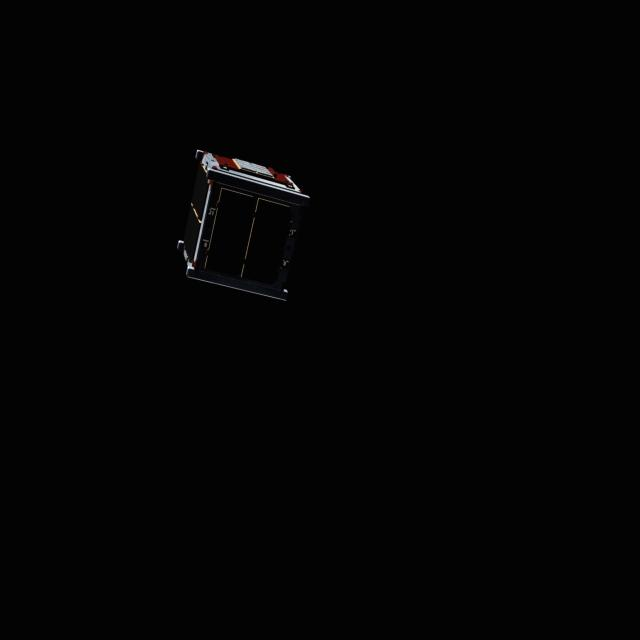medium_debris: (170, 133, 316, 317)
